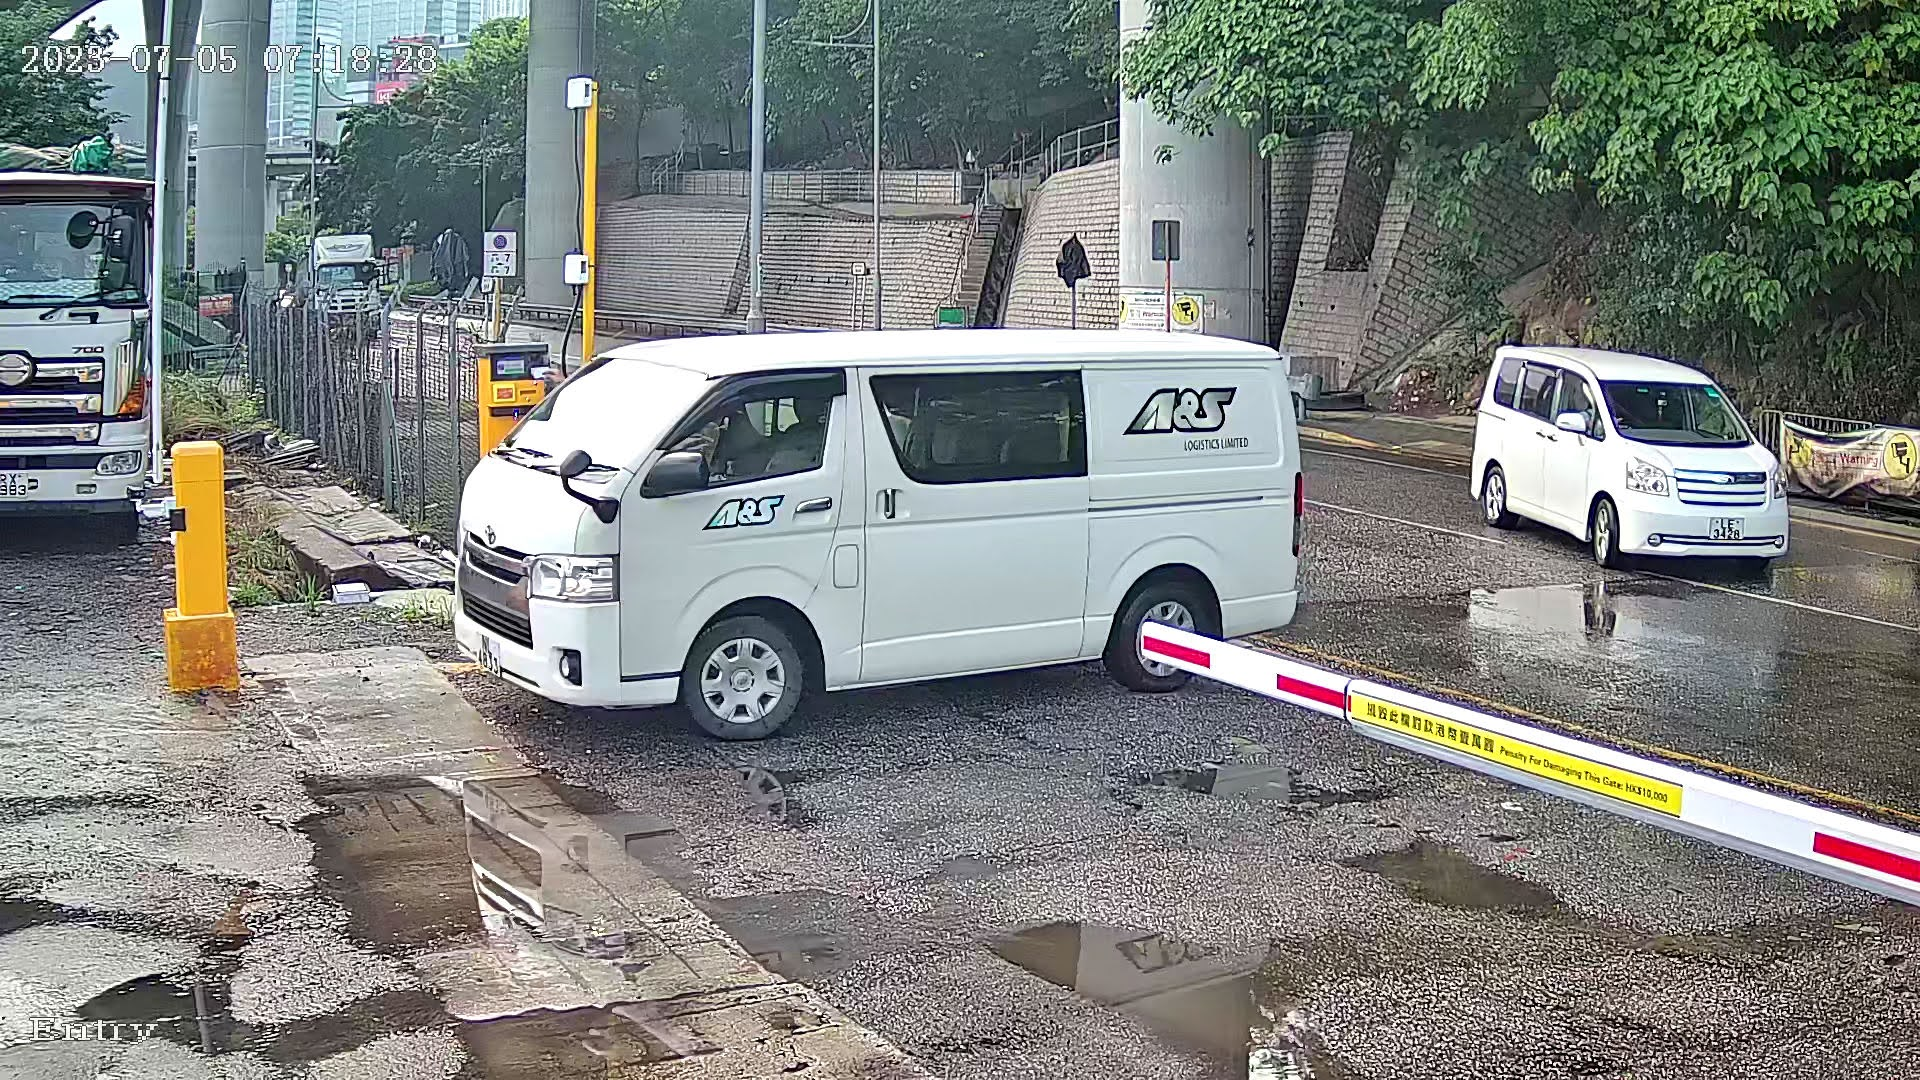privatecar: (429, 299, 1358, 769)
